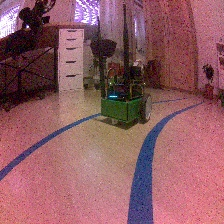rob: (100, 66, 152, 125)
